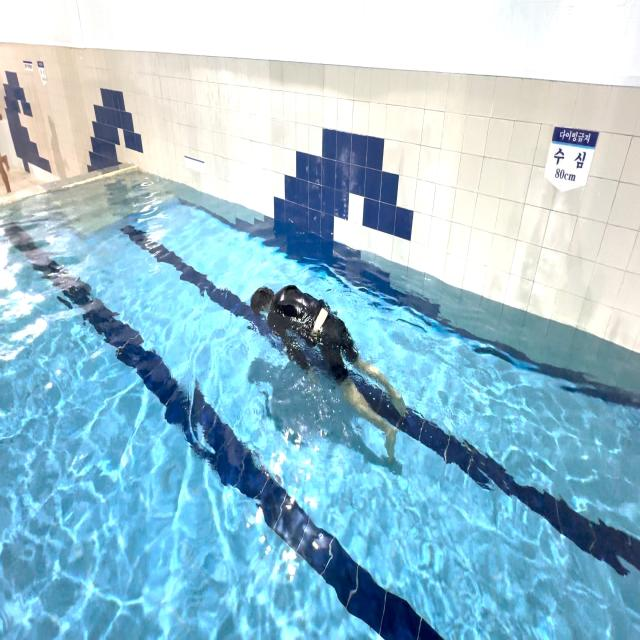Drowning: (244, 270, 415, 478)
